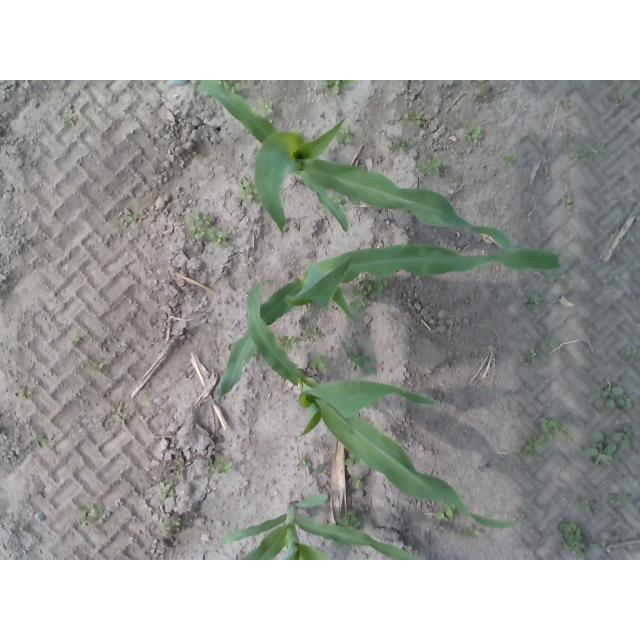Maize: (246, 278, 519, 529), (200, 81, 519, 252), (220, 244, 560, 396), (221, 493, 416, 560)
Weeds: (344, 344, 377, 377), (587, 432, 617, 460), (562, 524, 586, 557), (538, 418, 559, 444), (601, 385, 624, 407), (191, 215, 206, 242), (420, 158, 442, 175), (326, 80, 349, 96), (616, 422, 633, 442), (515, 436, 533, 454), (303, 325, 323, 340), (80, 505, 100, 520), (358, 281, 374, 298), (241, 181, 253, 203), (208, 229, 224, 244), (346, 510, 361, 526), (212, 460, 232, 472), (467, 128, 486, 139), (390, 141, 408, 152), (312, 356, 327, 369), (281, 335, 300, 345), (437, 511, 454, 522), (524, 297, 540, 308), (375, 281, 389, 292), (351, 299, 365, 310), (160, 483, 171, 497), (90, 361, 104, 372), (119, 210, 133, 221), (524, 348, 536, 360), (340, 131, 352, 143), (411, 113, 422, 126), (65, 109, 75, 123), (437, 502, 452, 511), (262, 102, 274, 113), (302, 459, 313, 470), (36, 433, 48, 443), (581, 499, 591, 510), (21, 386, 30, 398), (172, 458, 185, 466), (613, 96, 623, 105), (346, 456, 355, 466), (73, 338, 84, 346), (314, 463, 326, 470), (170, 517, 182, 524), (504, 156, 513, 165), (564, 200, 573, 209), (569, 150, 579, 158), (587, 147, 597, 154), (567, 102, 573, 107)
